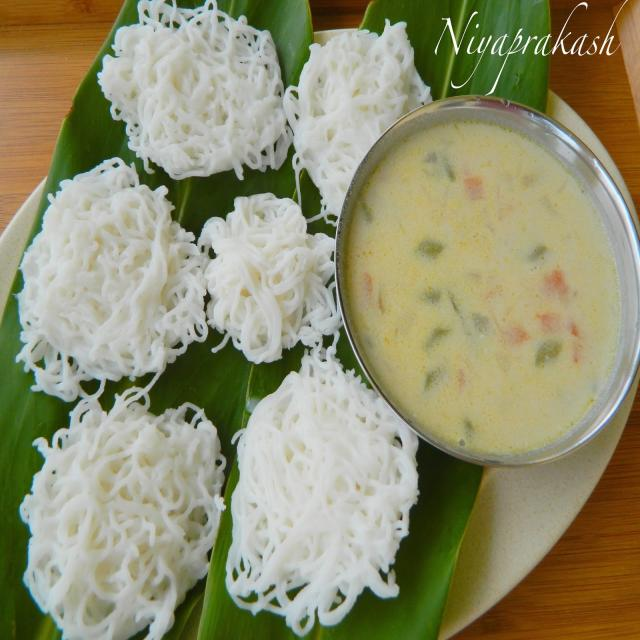CURRY: (345, 118, 633, 454)
IDIYAPPAM: (8, 0, 434, 639)
